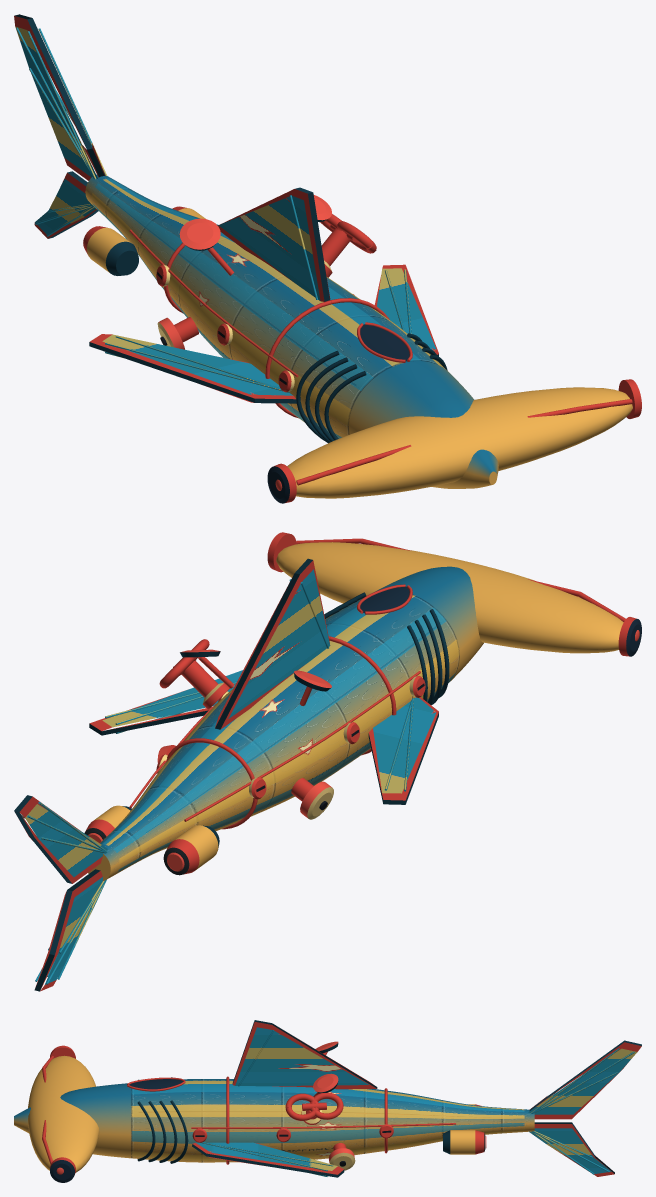
3 renders of one model, top to bottom at view 1: azimuth 30°, elevation 25°; view 2: azimuth 150°, elevation 25°; view 3: azimuth 270°, elevation 25°, orthographic. The views are drawn at different scales.
Parts seen in each view (by area): view 1: hammerhead_hull; view 2: hammerhead_hull; view 3: hammerhead_hull.
Boxes of the visible parts, box(x1,y1,x2,y2) form: hammerhead_hull: box(14, 14, 641, 503); hammerhead_hull: box(14, 532, 641, 991); hammerhead_hull: box(14, 1020, 641, 1182).
Size of the model in its own units: 34.14 by 21.29 by 78.
1 material, 1 textured.
